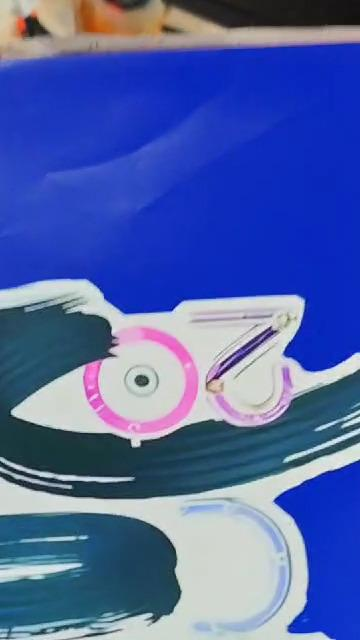B_R1: (0, 230, 359, 640)
